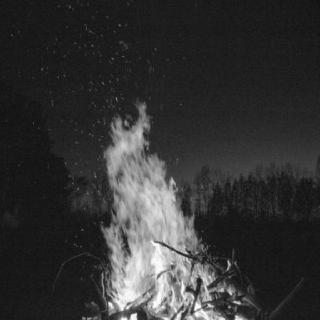Fire: (82, 99, 248, 320)
